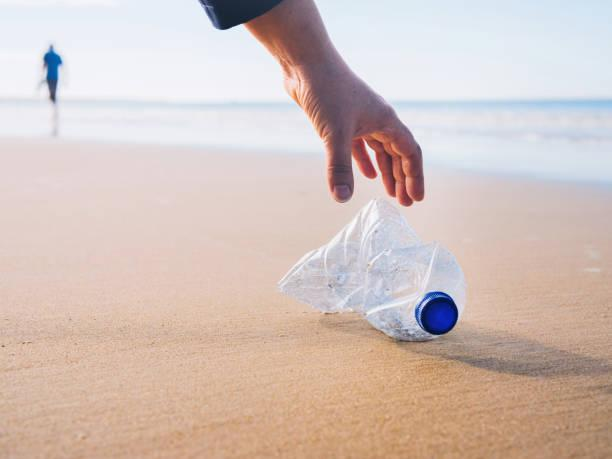Plastic: (274, 198, 474, 354)
